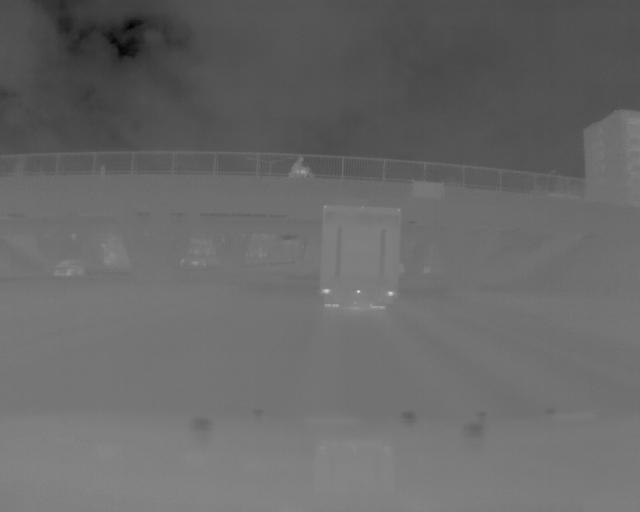car: (320, 198, 403, 321), (51, 253, 89, 282)
